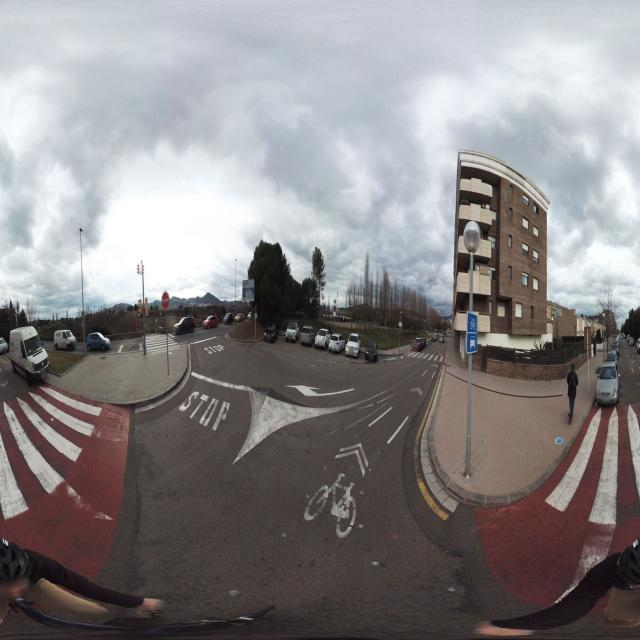forb_stopping: (254, 305, 257, 314)
